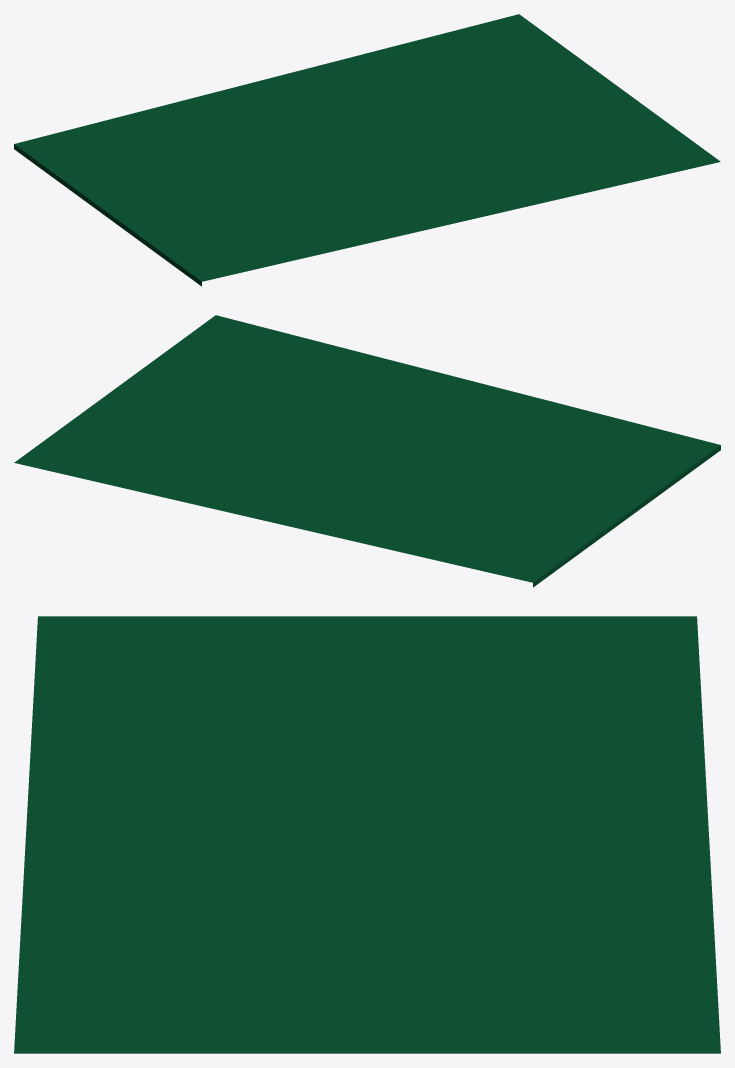
Rendered from top_plate.dae.
3 views of the same model, one above another, from view 1: azimuth 30°, elevation 25°; view 2: azimuth 150°, elevation 25°; view 3: azimuth 270°, elevation 25° (orthographic). The views are drawn at different scales.
Parts seen in each view (by area): view 1: Top_Plate; view 2: Top_Plate; view 3: Top_Plate.
Part boxes in pixels (box(x1,y1,x2,y2)): Top_Plate: box(14, 14, 720, 286); Top_Plate: box(14, 315, 720, 587); Top_Plate: box(14, 616, 720, 1053).
Bounding box in the file's own units: 0.67 × 0.4575 × 0.00635.
